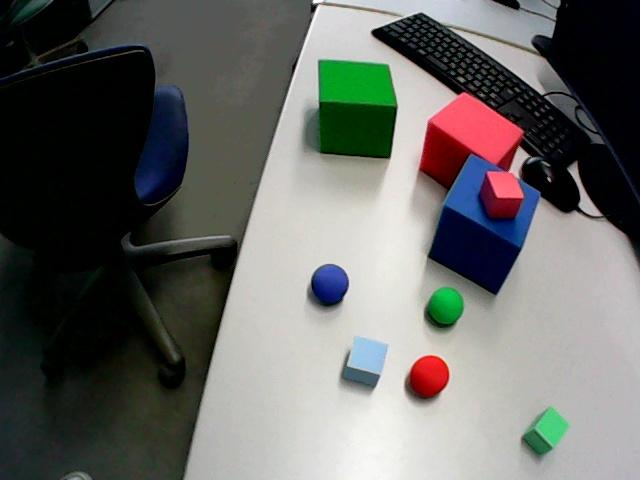blue_block: (429, 155, 539, 293), (343, 336, 387, 385)
red_block: (420, 93, 523, 187), (480, 171, 523, 218)
